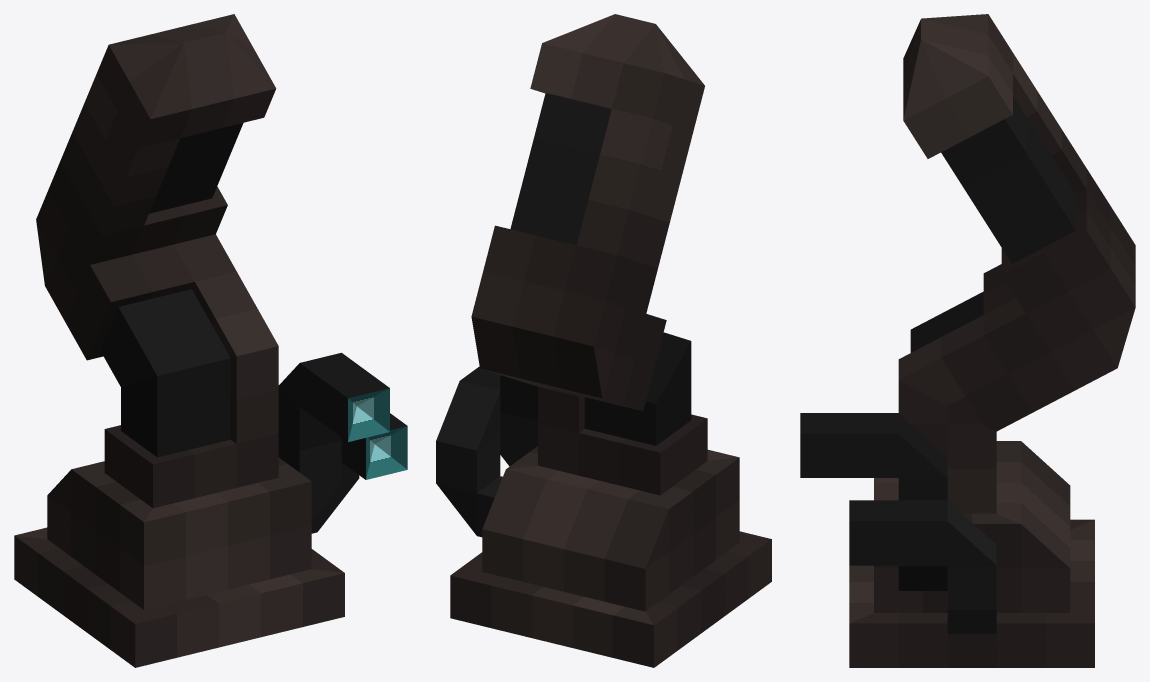
Rendered from leg_rocket_r.obj.
3 views of the same model, side by side, from view 1: azimuth 30°, elevation 25°; view 2: azimuth 150°, elevation 25°; view 3: azimuth 270°, elevation 25° (orthographic). The views are drawn at different scales.
Parts seen in each view (by area): view 1: LEG_RIGHT_ROCKET_Cube.063; view 2: LEG_RIGHT_ROCKET_Cube.063; view 3: LEG_RIGHT_ROCKET_Cube.063.
Boxes of the visible parts, bbox=[...] form: LEG_RIGHT_ROCKET_Cube.063: bbox=[14, 14, 407, 667]; LEG_RIGHT_ROCKET_Cube.063: bbox=[436, 14, 771, 667]; LEG_RIGHT_ROCKET_Cube.063: bbox=[800, 14, 1135, 667].
Size of the model in its own units: 0.4062 by 0.8246 by 0.4269.
